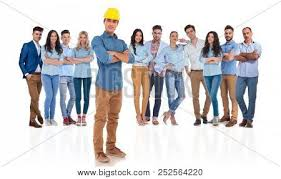Person_wearing_helmet: (100, 4, 126, 24)
